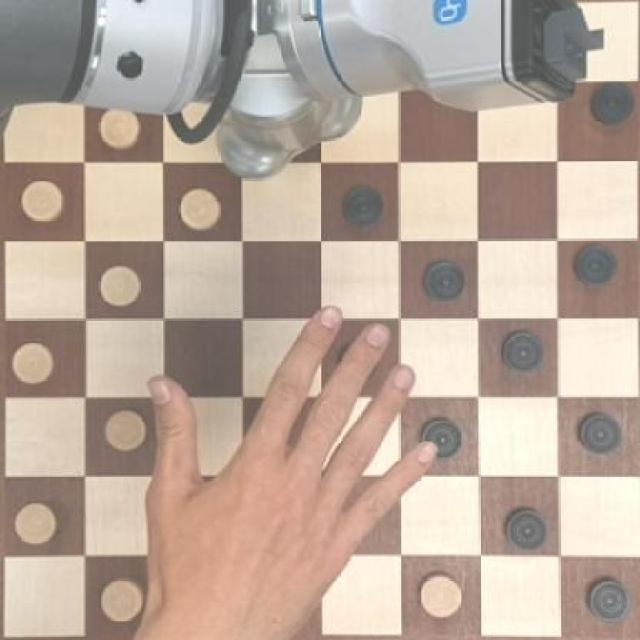black: (496, 498, 553, 550), (494, 320, 547, 374), (571, 406, 628, 456), (335, 178, 389, 229), (569, 240, 623, 290), (419, 250, 463, 307), (591, 78, 637, 129), (586, 572, 632, 623)
white: (12, 173, 70, 232), (411, 570, 469, 629), (90, 570, 143, 630), (96, 404, 152, 459), (93, 258, 146, 310), (94, 106, 146, 154), (8, 498, 60, 546), (172, 186, 225, 230), (11, 341, 60, 386)
